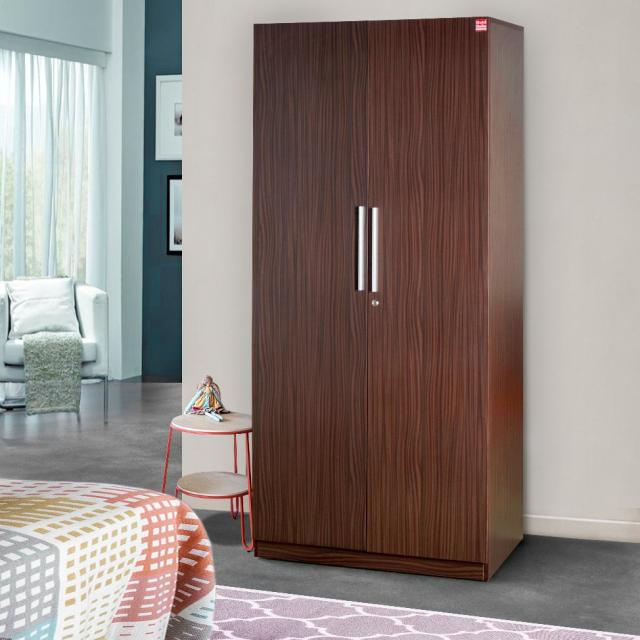Woods: (248, 18, 526, 584)
